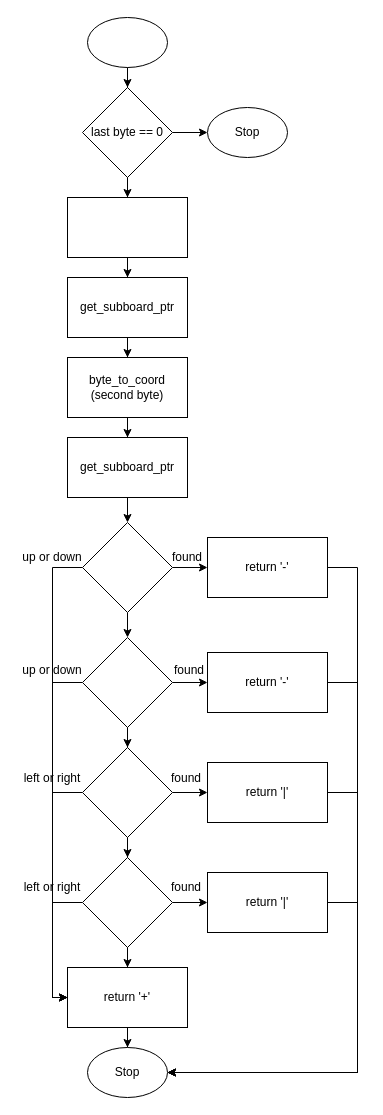
The diagram is 383 pixels wide and 1115 high, and some of its shapes have lost their labels. Each missing label, with the centre of its shape:
"byte_to_coord (first byte)" belongs at pixel 127 227.
"look for O down" belongs at pixel 127 902.
"look for O left" belongs at pixel 127 567.
"look for O right" belongs at pixel 127 682.
"look for O up" belongs at pixel 127 792.
"Start" belongs at pixel 127 42.
